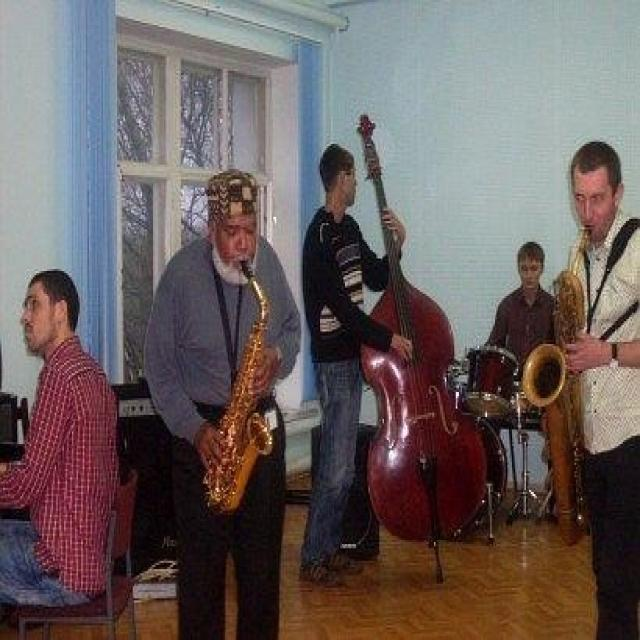drums: (443, 342, 627, 536)
saxophone: (521, 224, 610, 547), (202, 259, 277, 516)
